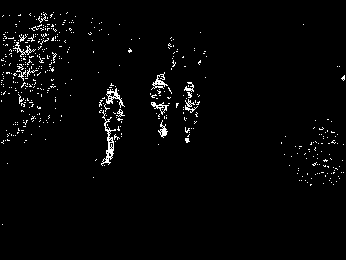person: (97, 81, 126, 168), (175, 80, 201, 145), (149, 72, 173, 141)
